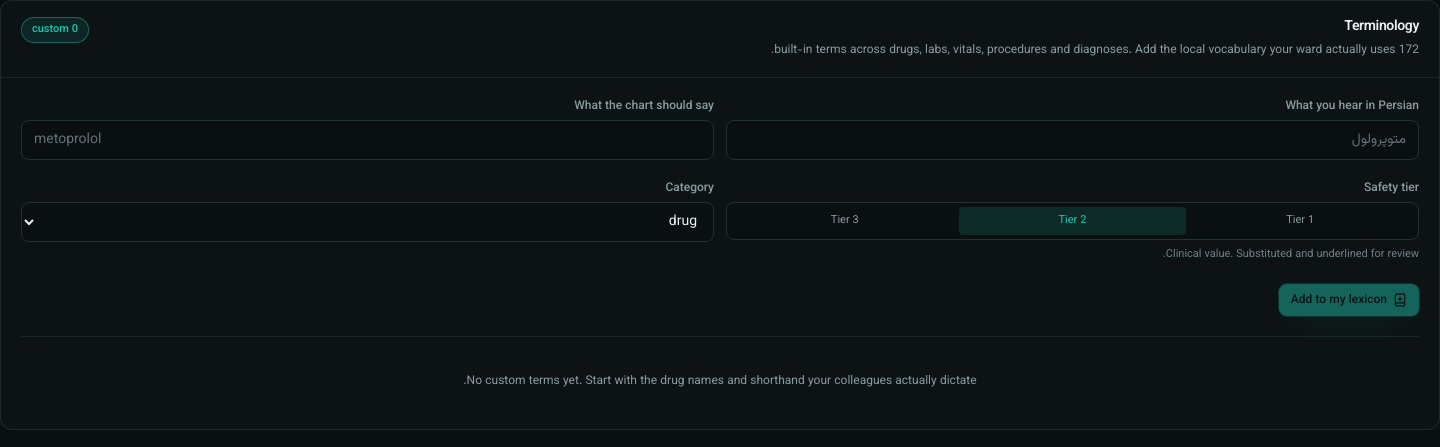
it: lexicon manager › explains what the selected safety tier is for
Expected: the text "Clinical value. Substituted and underlined for review." is shown, x1=1163 y1=246 x2=1419 y2=263
Click the button "Tier 1" at (1300, 221), box x1=1186 y1=206 x2=1414 y2=235
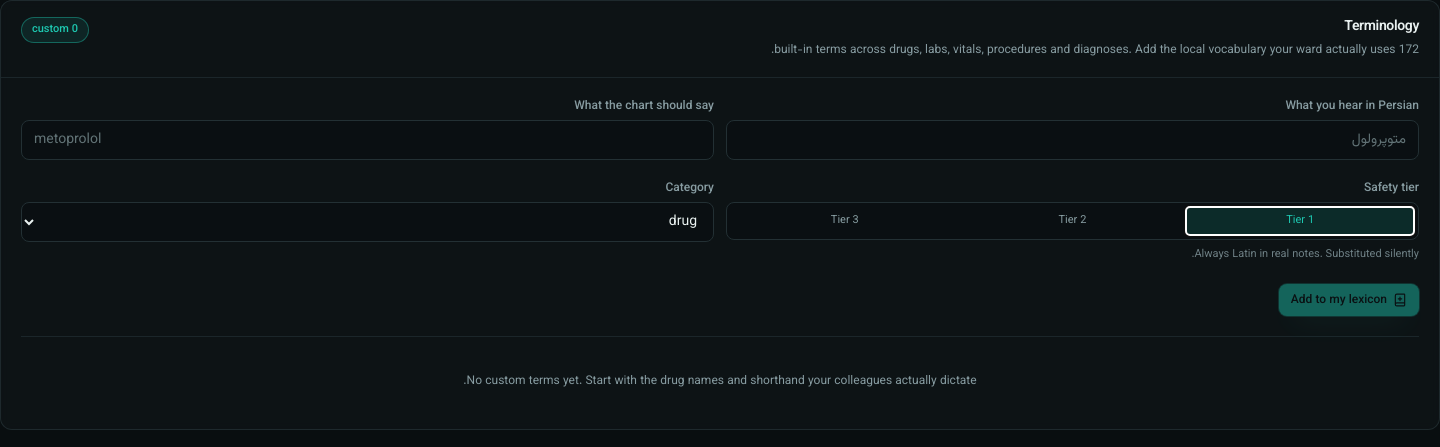
Expected: the text "Always Latin in real notes. Substituted silently." is shown, x1=1191 y1=246 x2=1419 y2=263
Click the button "Tier 3" at (845, 221), box x1=731 y1=206 x2=959 y2=235
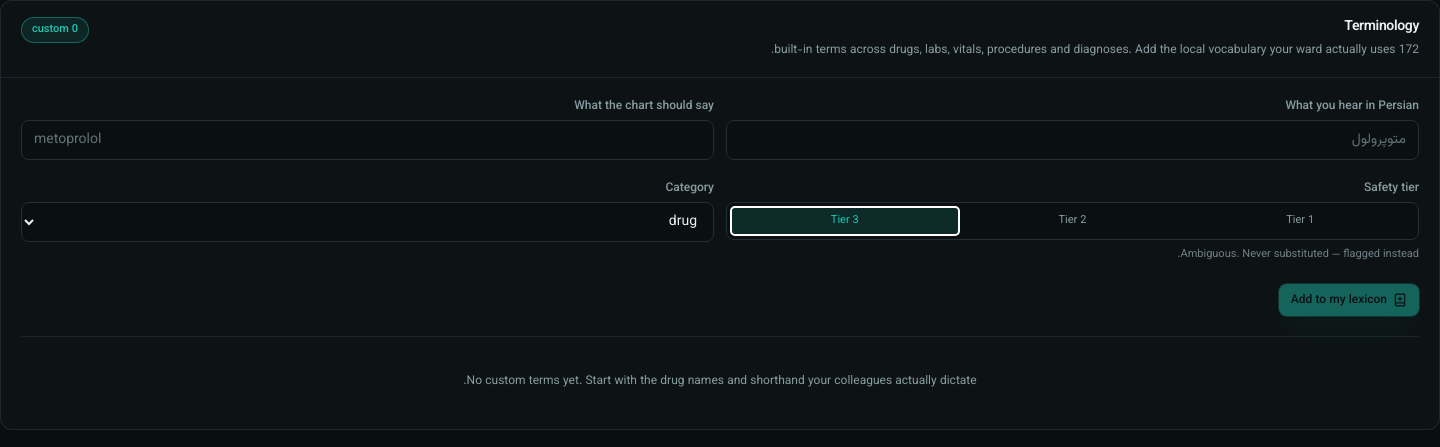
Expected: the text "Ambiguous. Never substituted — flagged instead." is shown, x1=1178 y1=246 x2=1419 y2=263
